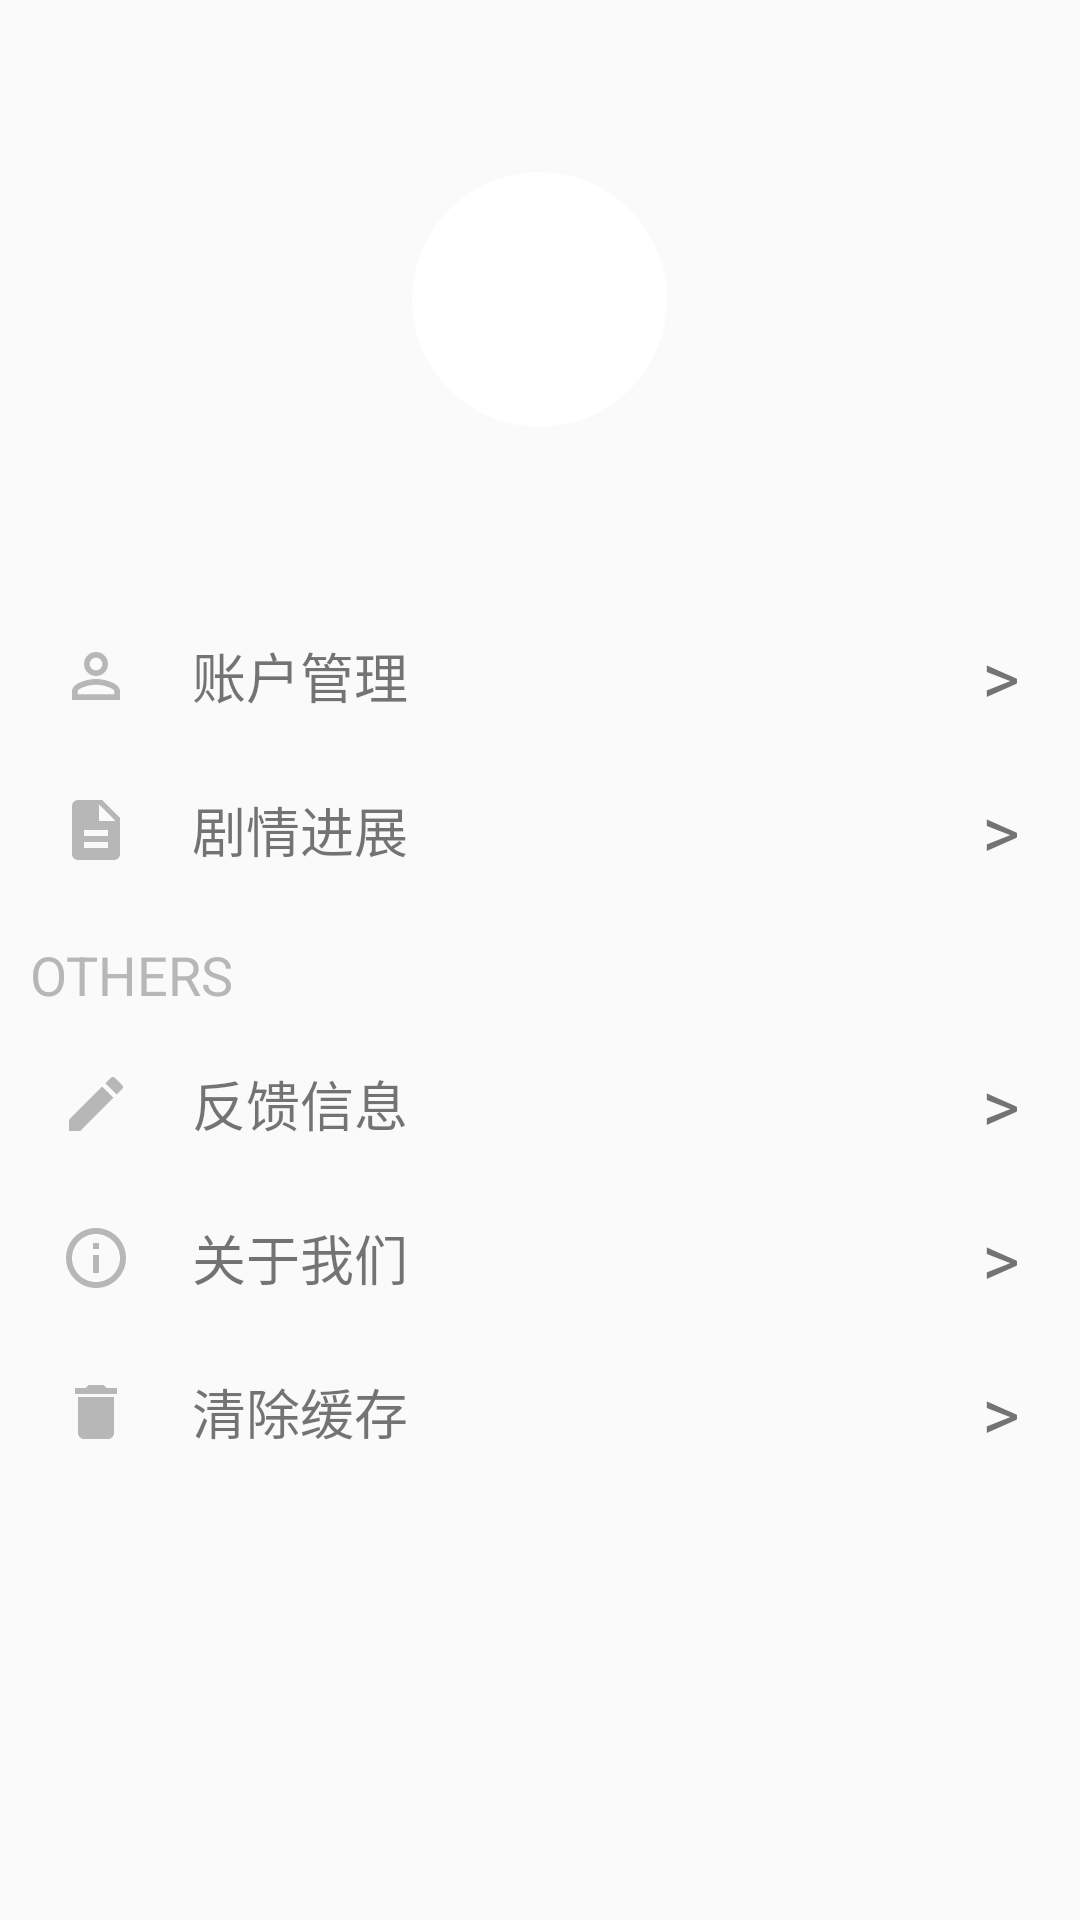

Screen size 1080px×1920px. Icon name, then its center in pixels as [x,y]:
create: [96,1104]
description: [96,830]
info: [96,1258]
person: [96,676]
